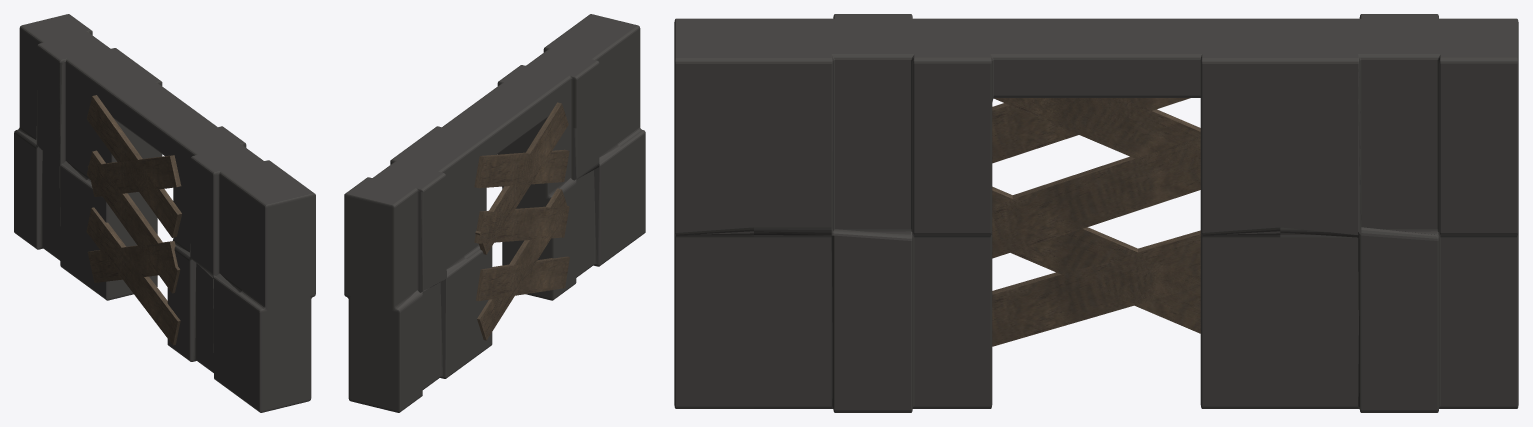
Rendered from WallwWood.fbx.
The picture shows the model from 3 angles, left to right: view 1: azimuth 30°, elevation 25°; view 2: azimuth 150°, elevation 25°; view 3: azimuth 270°, elevation 25°; orthographic projection. The views are drawn at different scales.
Visible parts, largest first — view 1: Cube.001, Cube.002, Cube.005, Cube, Cube.003, Cube.004; view 2: Cube.001, Cube, Cube.005, Cube.003, Cube.002, Cube.004; view 3: Cube.001, Cube, Cube.002, Cube.004, Cube.003, Cube.005.
Boxes of the visible parts, x1,y1,x2,y2 form: Cube.001: (14, 14, 315, 412); Cube.002: (86, 207, 180, 345); Cube.005: (87, 95, 181, 237); Cube: (87, 150, 180, 293); Cube.003: (87, 155, 181, 196); Cube.004: (87, 241, 177, 282); Cube.001: (344, 14, 645, 412); Cube: (474, 206, 569, 243); Cube.005: (474, 149, 569, 188); Cube.003: (475, 102, 568, 254); Cube.002: (476, 256, 569, 301); Cube.004: (477, 188, 568, 340); Cube.001: (674, 14, 1518, 412); Cube: (992, 137, 1200, 258); Cube.002: (992, 230, 1200, 346); Cube.004: (992, 186, 1200, 333); Cube.003: (993, 98, 1200, 175); Cube.005: (992, 98, 1190, 163).
Size of the model in its own units: 260 by 854 by 1842.
Materials: 2 (1 with a texture image).
